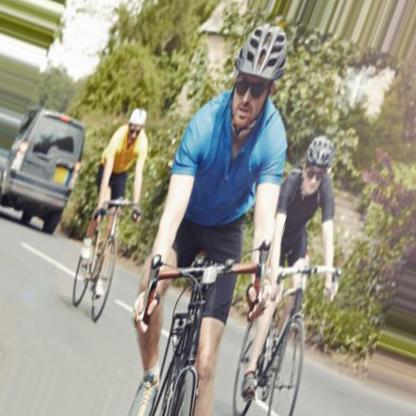with helmet: (229, 25, 290, 132), (302, 135, 335, 197), (127, 108, 148, 146)
